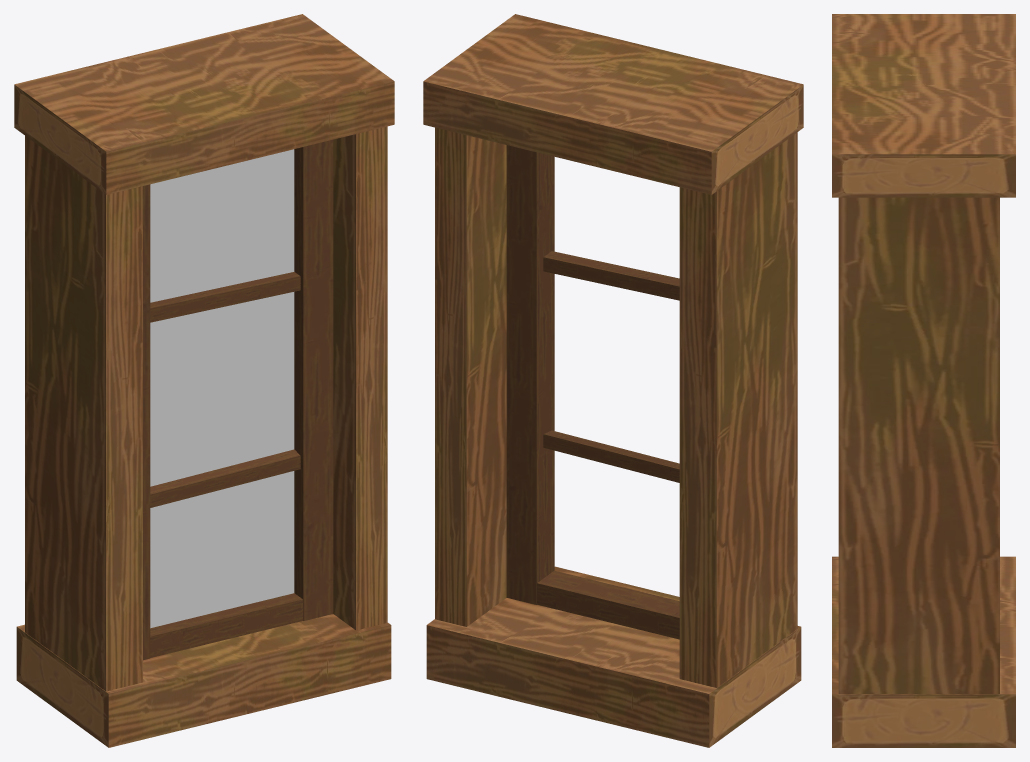
File: window-thin-flat1.glb
3 views of the same model, side by side, from view 1: azimuth 30°, elevation 25°; view 2: azimuth 150°, elevation 25°; view 3: azimuth 270°, elevation 25° (orthographic).
Parts seen in each view (by area): view 1: Window_Thin_Flat1; view 2: Window_Thin_Flat1; view 3: Window_Thin_Flat1.
Boxes of the visible parts, bbox=[...] form: Window_Thin_Flat1: bbox=[14, 14, 394, 747]; Window_Thin_Flat1: bbox=[423, 14, 803, 747]; Window_Thin_Flat1: bbox=[832, 14, 1015, 747].
Size of the model in its own units: 0.788 by 1.56 by 0.4357.
2 materials, 1 textured.
